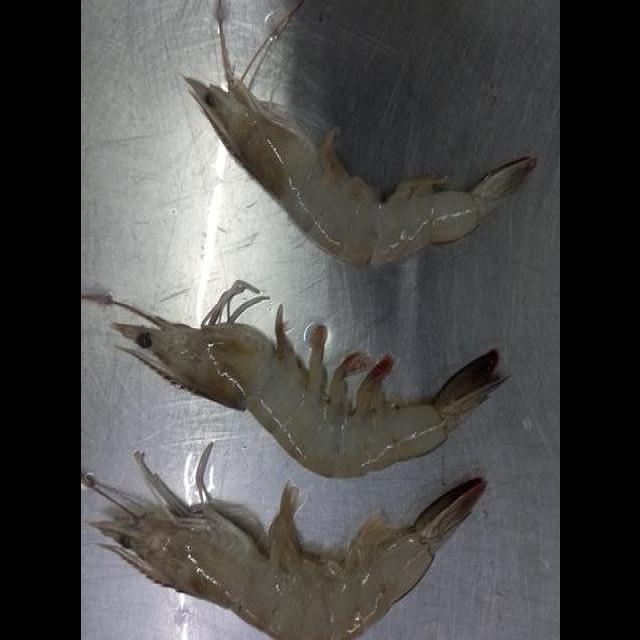shrimp: (82, 280, 503, 477), (184, 43, 534, 265), (81, 452, 484, 640)
